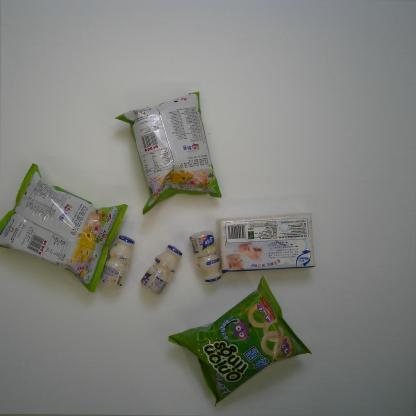Milk: (140, 245, 183, 296), (100, 235, 135, 288), (189, 229, 222, 283)
Puffed Food: (167, 274, 312, 407), (0, 163, 129, 294), (115, 91, 222, 216)
Tissue: (218, 211, 316, 275)
